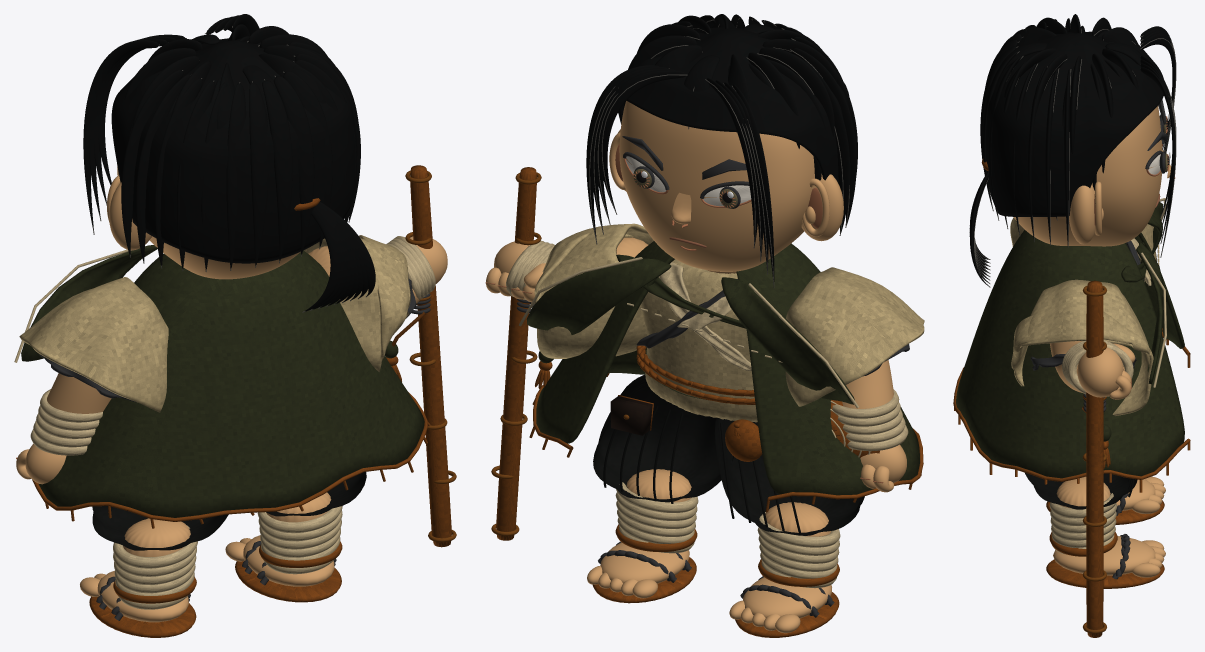
The model's file is touma.glb.
3 views of the same model, side by side, from view 1: azimuth 30°, elevation 25°; view 2: azimuth 150°, elevation 25°; view 3: azimuth 270°, elevation 25° (orthographic). The views are drawn at different scales.
Parts seen in each view (by area): view 1: Touma__Wanderer_moss_cloak, Touma__Fitted_scalp, Touma__Kimono_sleeve_-1, Touma__Bamboo_travel_staff, Touma__Kimono_sleeve_1, Touma__Occipital_lock_07, Touma__Occipital_lock_08, Touma__Front_mantle_drape_-1, Touma__Occipital_lock_06, Touma__Trousers_-1, Touma__Occipital_lock_14, Touma__Wanderer_moss_cloak_hem (+40 smaller); view 2: Touma__Wanderer_moss_cloak, Touma__Face_sculpt_cage, Touma__Fitted_scalp, Touma__Kimono_sleeve_-1, Touma__Under_kimono, Touma__Trousers_1, Touma__Kimono_sleeve_1, Touma__Bamboo_travel_staff, Touma__Front_mantle_drape_1, Touma__Front_mantle_drape_-1, Touma__Trousers_-1, Touma__Foot_1 (+45 smaller); view 3: Touma__Wanderer_moss_cloak, Touma__Fitted_scalp, Touma__Face_sculpt_cage, Touma__Kimono_sleeve_1, Touma__Bamboo_travel_staff, Touma__Palm_1, Touma__Foot_1, Touma__Ear_1, Touma__Trousers_1, Touma__Wanderer_moss_cloak_hem, Touma__Sandal_sole_1, Touma__Front_mantle_drape_1 (+37 smaller).
Part boxes in pixels (left/top/right/bottom): Touma__Wanderer_moss_cloak: left=38, top=250, right=424, bottom=517; Touma__Fitted_scalp: left=111, top=38, right=357, bottom=263; Touma__Kimono_sleeve_-1: left=19, top=277, right=168, bottom=412; Touma__Bamboo_travel_staff: left=410, top=165, right=451, bottom=547; Touma__Kimono_sleeve_1: left=304, top=235, right=410, bottom=371; Touma__Occipital_lock_07: left=262, top=80, right=292, bottom=260; Touma__Occipital_lock_08: left=249, top=82, right=268, bottom=265; Touma__Front_mantle_drape_-1: left=21, top=245, right=157, bottom=361; Touma__Occipital_lock_06: left=273, top=76, right=314, bottom=254; Touma__Trousers_-1: left=92, top=506, right=228, bottom=550; Touma__Occipital_lock_14: left=121, top=70, right=183, bottom=255; Touma__Wanderer_moss_cloak_hem: left=32, top=392, right=427, bottom=521; Touma__Wanderer_moss_cloak: left=536, top=241, right=919, bottom=495; Touma__Face_sculpt_cage: left=619, top=101, right=814, bottom=271; Touma__Fitted_scalp: left=618, top=27, right=849, bottom=183; Touma__Kimono_sleeve_-1: left=785, top=267, right=924, bottom=406; Touma__Under_kimono: left=641, top=259, right=757, bottom=422; Touma__Trousers_1: left=593, top=374, right=733, bottom=502; Touma__Kimono_sleeve_1: left=534, top=223, right=653, bottom=358; Touma__Bamboo_travel_staff: left=496, top=167, right=536, bottom=540; Touma__Front_mantle_drape_1: left=526, top=258, right=671, bottom=334; Touma__Front_mantle_drape_-1: left=721, top=277, right=854, bottom=404; Touma__Trousers_-1: left=714, top=417, right=864, bottom=535; Touma__Foot_1: left=600, top=542, right=689, bottom=583; Touma__Wanderer_moss_cloak: left=956, top=230, right=1184, bottom=478; Touma__Fitted_scalp: left=984, top=31, right=1163, bottom=216; Touma__Face_sculpt_cage: left=1013, top=106, right=1162, bottom=246; Touma__Kimono_sleeve_1: left=1011, top=279, right=1153, bottom=415; Touma__Bamboo_travel_staff: left=1086, top=280, right=1103, bottom=637; Touma__Palm_1: left=1077, top=347, right=1123, bottom=397; Touma__Foot_1: left=1053, top=536, right=1155, bottom=575; Touma__Ear_1: left=1069, top=184, right=1094, bottom=244; Touma__Trousers_1: left=1025, top=473, right=1137, bottom=509; Touma__Wanderer_moss_cloak_hem: left=953, top=346, right=1190, bottom=481; Touma__Sandal_sole_1: left=1046, top=559, right=1164, bottom=588; Touma__Front_mantle_drape_1: left=1136, top=241, right=1163, bottom=384.
Bounding box in the file's own units: 2.02 × 2.55 × 1.09.
Materials: 17 (8 with a texture image).
